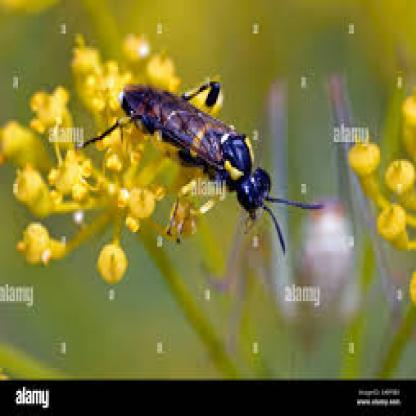sawfly: (95, 76, 318, 235)
